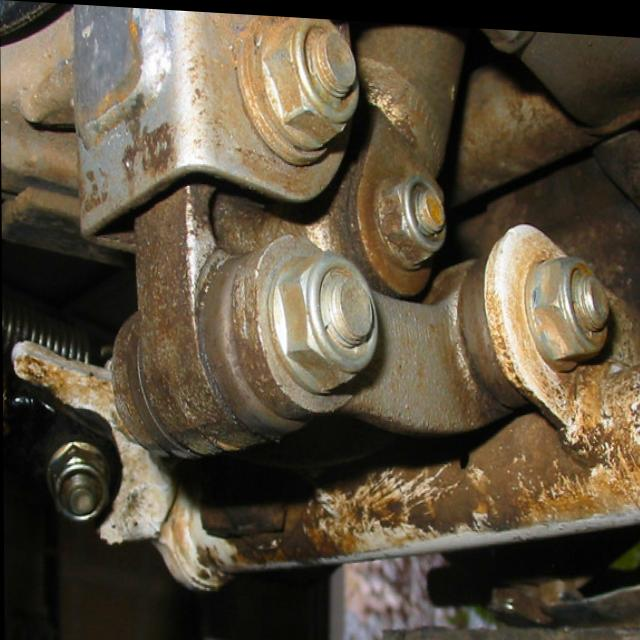Regular bolt: (280, 246, 377, 385), (258, 13, 358, 143), (525, 247, 610, 359), (383, 169, 448, 262), (53, 445, 109, 518)
